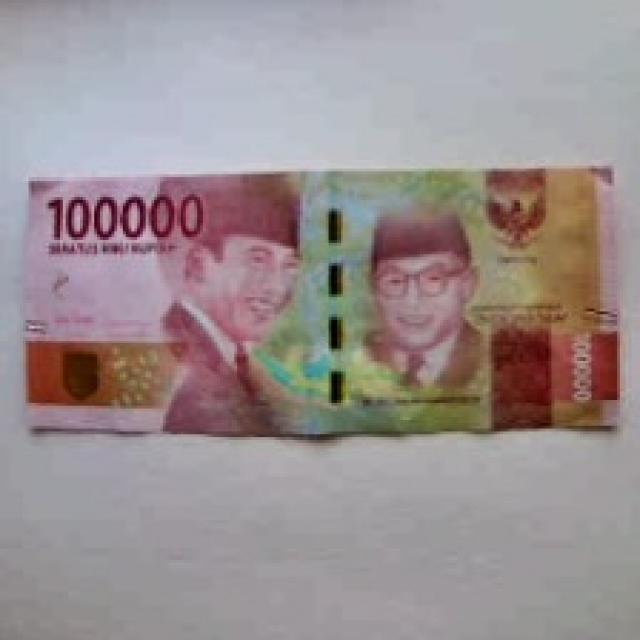lima puluh ribu rupiah: (0, 152, 637, 448)
